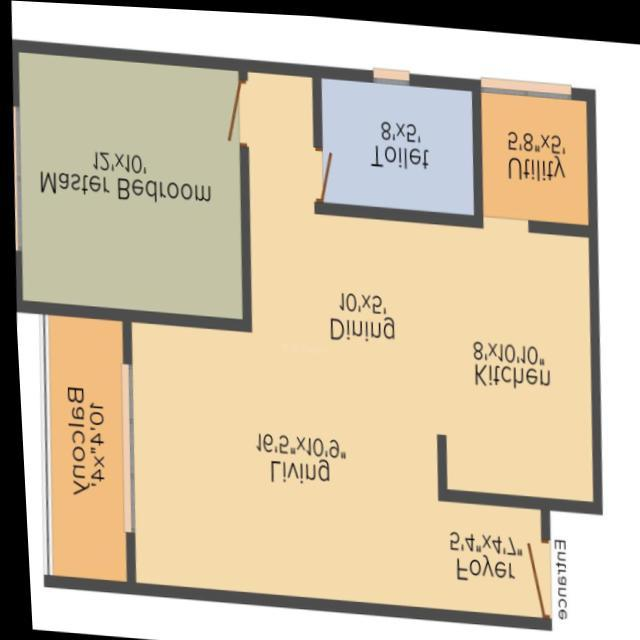Balcony-Sitout: (39, 311, 125, 589)
Bedroom with Toilet: (11, 41, 246, 328)
Enterance-Foyer: (436, 495, 567, 625)
Kitchen: (432, 208, 595, 505)
Living: (122, 317, 440, 613)
Toilet: (312, 65, 479, 222)
Utility: (476, 83, 593, 225)
